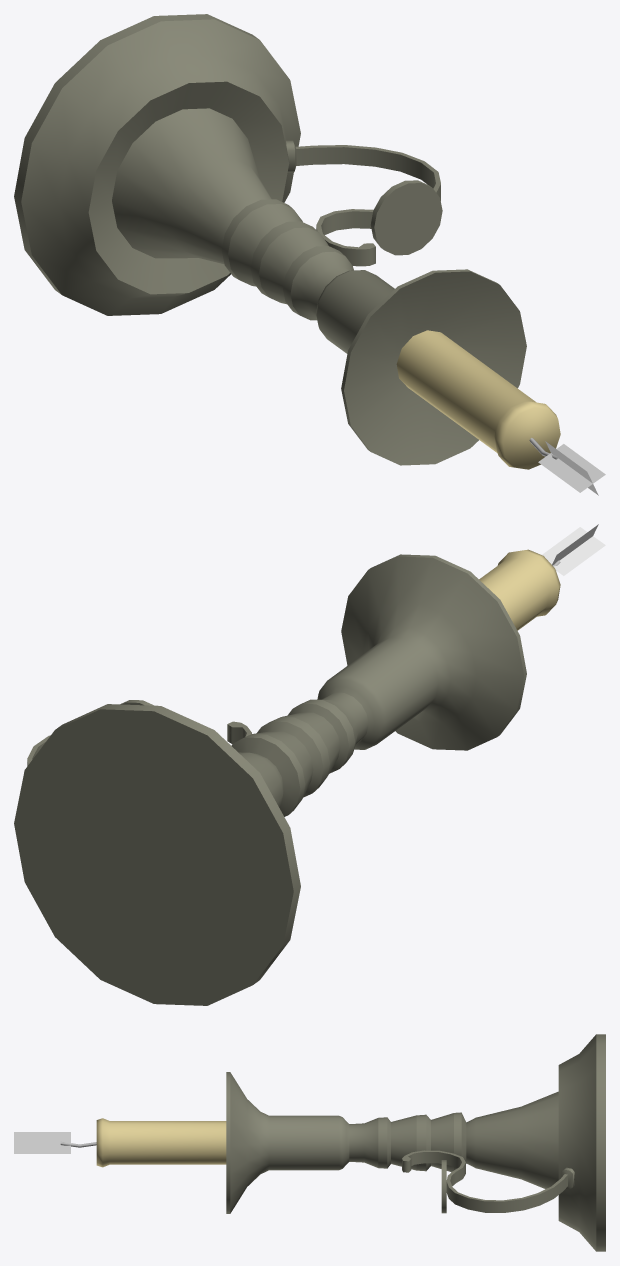
The model's file is candle.fbx.
3 renders of one model, top to bottom at view 1: azimuth 30°, elevation 25°; view 2: azimuth 150°, elevation 25°; view 3: azimuth 270°, elevation 25°, orthographic. The views are drawn at different scales.
Visible parts, largest first — view 1: candle; view 2: candle; view 3: candle.
Boxes of the visible parts, x1,y1,x2,y2 form: candle: (14,14,605,495); candle: (14,524,605,1005); candle: (14,1034,605,1251).
Size of the model in its own units: 82.69 by 68.96 by 187.
